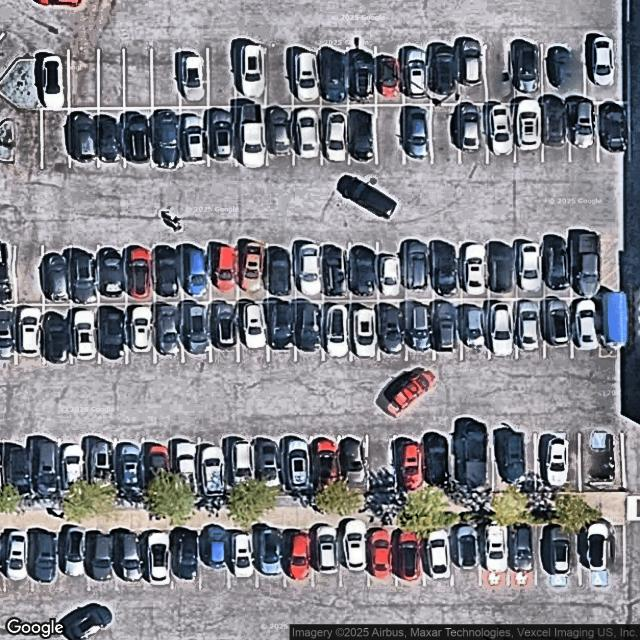car: (572, 232, 603, 297), (460, 424, 488, 488), (152, 108, 180, 168), (238, 103, 264, 167), (238, 41, 266, 99), (35, 434, 61, 496), (126, 246, 153, 303), (397, 525, 424, 581), (545, 232, 570, 290), (599, 102, 627, 153), (514, 42, 541, 94), (486, 241, 513, 293), (338, 438, 365, 490), (322, 48, 347, 104), (116, 443, 142, 496), (286, 437, 311, 492), (42, 251, 68, 303), (544, 436, 570, 488), (157, 304, 182, 358), (296, 297, 321, 351), (200, 445, 225, 499), (423, 434, 449, 485), (547, 526, 573, 577), (571, 98, 596, 151), (405, 239, 430, 292), (313, 438, 338, 491), (315, 522, 340, 575), (500, 432, 527, 481), (489, 102, 513, 157), (71, 253, 96, 305), (174, 442, 199, 494), (258, 526, 283, 578), (585, 523, 612, 571), (344, 519, 368, 573), (32, 530, 56, 584), (517, 99, 541, 152), (462, 242, 486, 295), (186, 303, 210, 356), (354, 304, 378, 357), (148, 530, 172, 583), (518, 240, 541, 295), (181, 54, 206, 104), (543, 94, 567, 146), (154, 246, 178, 298), (6, 530, 30, 582), (484, 523, 508, 574), (62, 525, 86, 576), (325, 111, 348, 164), (184, 245, 207, 298), (230, 441, 253, 494), (370, 527, 393, 580), (432, 45, 456, 95), (269, 301, 293, 351), (90, 439, 114, 489), (455, 521, 479, 571), (460, 38, 483, 90), (102, 309, 125, 361), (6, 441, 29, 493), (459, 101, 481, 155), (353, 244, 375, 298), (288, 533, 312, 582), (126, 111, 149, 162), (268, 106, 291, 157), (406, 108, 429, 159), (242, 242, 265, 293), (512, 523, 535, 574), (42, 56, 64, 109), (351, 49, 373, 102), (434, 242, 456, 295), (493, 300, 514, 355), (101, 248, 125, 296), (268, 249, 292, 297), (210, 108, 233, 158), (296, 109, 319, 159), (350, 111, 373, 161), (118, 531, 141, 581), (295, 51, 317, 103), (75, 309, 97, 361), (434, 299, 456, 351), (429, 528, 451, 580), (298, 243, 319, 297), (324, 245, 345, 299), (400, 441, 423, 490), (410, 302, 432, 353), (549, 296, 571, 347), (182, 115, 206, 161), (257, 440, 280, 488), (90, 534, 114, 580), (405, 48, 427, 98), (328, 302, 348, 357), (519, 301, 541, 351), (594, 36, 615, 88), (147, 444, 169, 493), (176, 528, 197, 579), (72, 113, 95, 159), (463, 301, 485, 349), (64, 443, 85, 493), (243, 303, 266, 348), (215, 302, 236, 351), (47, 312, 67, 363), (383, 305, 403, 356), (231, 533, 253, 579), (214, 244, 235, 292), (98, 118, 119, 165), (205, 524, 227, 568), (549, 46, 572, 88), (380, 252, 401, 297), (131, 306, 150, 354), (380, 53, 399, 99), (579, 298, 596, 347), (0, 240, 13, 304), (22, 310, 40, 354), (2, 308, 14, 359)
lot_boundary: (0, 0, 640, 640)
objects: (0, 58, 37, 110), (603, 292, 629, 351), (0, 121, 14, 163)
stall: (586, 44, 629, 103), (543, 46, 585, 105), (536, 434, 580, 490), (580, 435, 624, 491), (495, 433, 536, 492), (581, 528, 624, 583), (539, 528, 580, 584), (455, 434, 494, 491), (0, 437, 34, 495), (598, 102, 629, 162), (237, 302, 268, 362), (234, 47, 266, 105), (459, 238, 489, 299), (571, 237, 601, 298), (403, 239, 433, 300), (430, 238, 460, 299), (41, 304, 71, 365), (70, 303, 100, 364), (294, 242, 324, 302), (487, 239, 517, 299), (68, 49, 99, 107), (516, 238, 545, 298), (98, 304, 127, 363), (40, 49, 68, 109), (210, 302, 238, 362), (127, 303, 155, 363), (350, 240, 377, 302), (169, 436, 198, 493), (311, 435, 340, 492), (199, 435, 228, 492), (225, 434, 254, 491), (283, 434, 312, 491), (58, 438, 87, 495), (115, 437, 144, 494), (88, 530, 117, 587), (119, 530, 148, 587), (481, 528, 510, 585), (452, 527, 481, 584), (423, 528, 452, 585), (70, 108, 98, 167), (266, 242, 294, 301), (210, 243, 238, 302), (351, 301, 379, 360), (267, 302, 295, 361), (462, 299, 490, 358), (545, 238, 572, 299), (238, 243, 266, 301), (181, 243, 209, 301), (32, 532, 61, 588), (228, 530, 257, 586), (424, 435, 453, 491), (257, 529, 286, 585), (508, 527, 537, 583), (312, 528, 341, 584), (379, 300, 406, 360), (368, 435, 396, 492), (4, 531, 32, 588), (86, 438, 114, 495), (228, 529, 256, 586), (396, 435, 424, 492), (340, 528, 368, 585), (296, 302, 323, 361), (490, 299, 517, 358), (571, 299, 598, 358), (434, 300, 461, 359), (324, 241, 350, 302), (254, 435, 282, 491), (28, 438, 56, 494), (200, 530, 228, 586), (60, 531, 88, 587), (284, 529, 312, 585), (396, 528, 424, 584), (378, 241, 405, 299), (153, 48, 179, 108), (405, 45, 431, 104), (377, 45, 403, 104), (349, 46, 375, 105), (267, 47, 293, 106), (181, 48, 207, 107), (487, 46, 513, 105), (459, 45, 485, 104), (181, 108, 207, 167), (153, 108, 179, 167), (99, 108, 125, 167), (323, 106, 349, 165), (295, 107, 321, 166), (210, 108, 236, 167), (488, 103, 514, 162), (461, 104, 487, 163), (433, 104, 459, 163), (405, 105, 431, 164), (350, 106, 376, 165), (544, 103, 570, 162), (126, 244, 152, 303), (515, 103, 541, 162), (71, 246, 97, 305), (45, 246, 71, 305), (184, 302, 210, 361), (518, 299, 544, 358), (544, 298, 570, 357), (407, 299, 433, 358), (172, 530, 199, 586), (369, 529, 396, 585), (341, 435, 368, 491), (99, 49, 125, 107), (323, 47, 349, 105), (293, 47, 319, 105), (209, 48, 235, 106), (515, 45, 541, 103), (432, 45, 458, 103), (42, 109, 68, 167), (125, 50, 151, 108), (126, 108, 152, 166), (267, 108, 293, 166), (238, 107, 264, 165), (377, 106, 403, 164), (571, 103, 597, 161), (99, 246, 125, 304), (17, 246, 43, 304), (153, 244, 179, 302), (17, 306, 43, 364), (156, 303, 182, 361), (142, 438, 169, 493), (15, 111, 41, 168), (325, 300, 349, 360), (148, 530, 172, 585), (0, 246, 16, 306), (0, 307, 16, 364)
